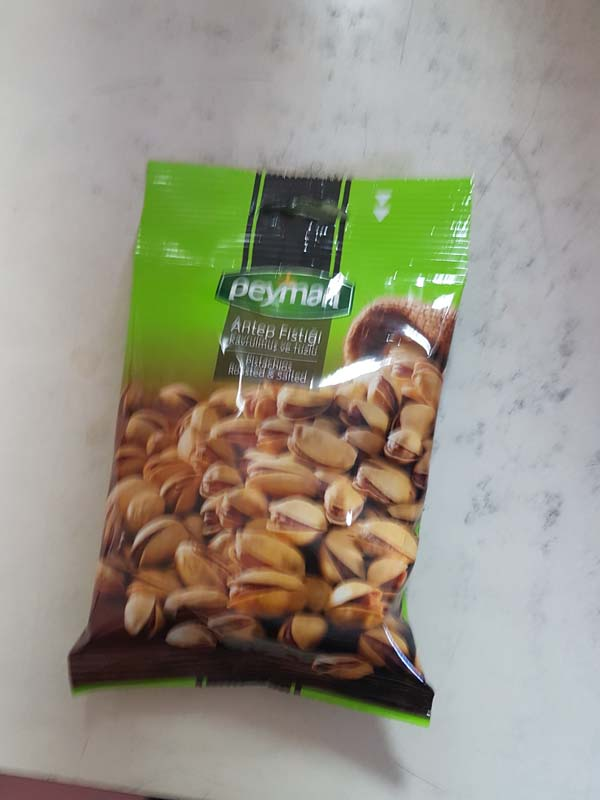antepfistigi: (62, 157, 479, 736)
